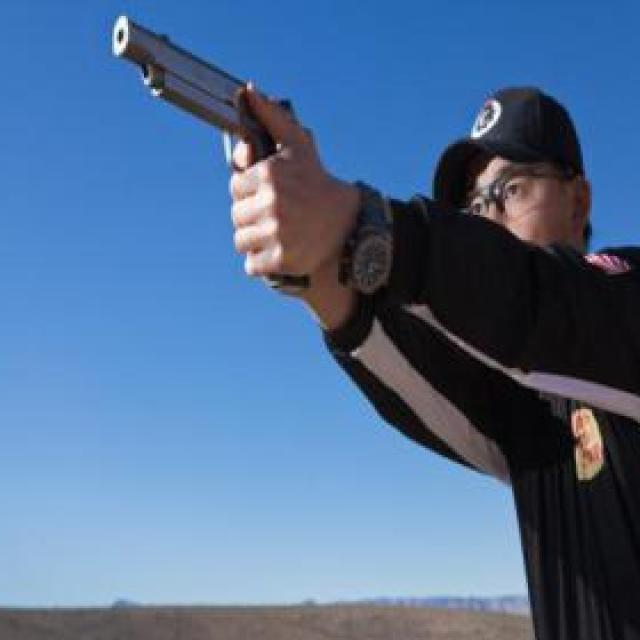pistol: (107, 2, 327, 301)
